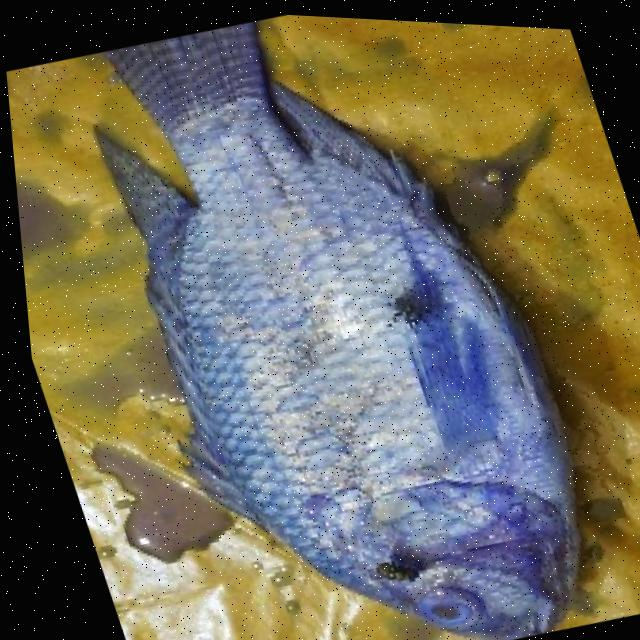Non-Fresh: (82, 3, 618, 640)
